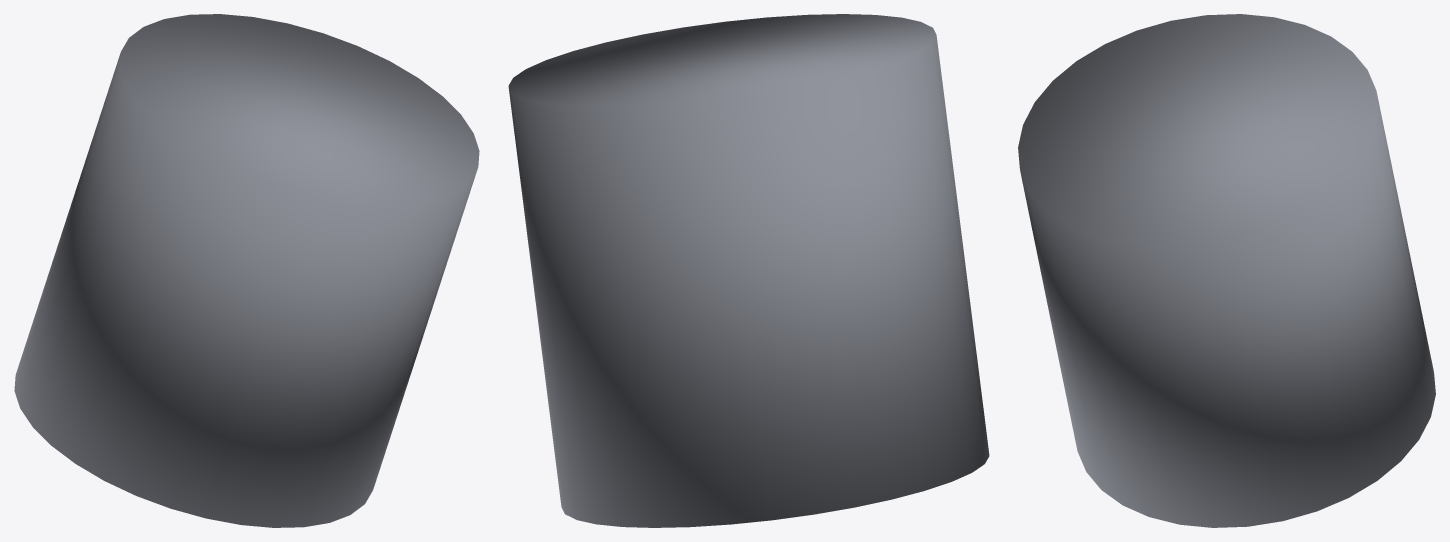
The model's file is maincolumn.dae.
The picture shows the model from 3 angles, left to right: view 1: azimuth 30°, elevation 25°; view 2: azimuth 150°, elevation 25°; view 3: azimuth 270°, elevation 25°; orthographic projection. The views are drawn at different scales.
Parts seen in each view (by area): view 1: maincolumn; view 2: maincolumn; view 3: maincolumn.
Part boxes in pixels (x1,y1,x2,y2): maincolumn: (14, 14, 479, 527); maincolumn: (508, 14, 989, 527); maincolumn: (1018, 14, 1435, 527).
Size of the model in its own units: 7.23 by 6.88 by 7.46.
Materials: 1 (1 with a texture image).
